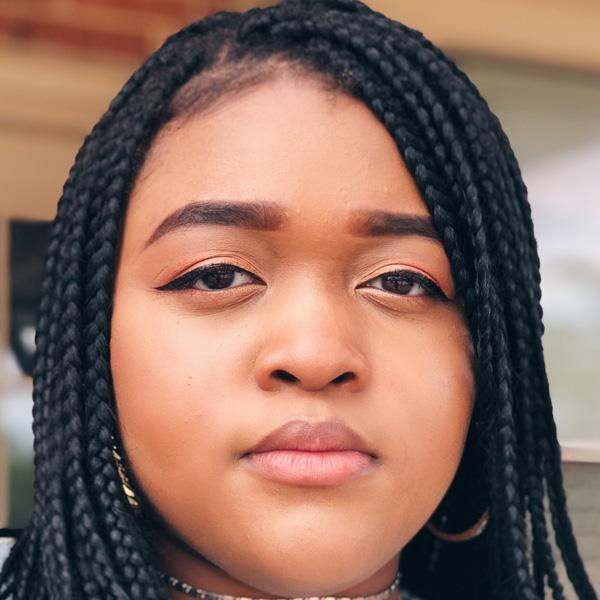Eyes: (159, 238, 272, 311), (345, 247, 451, 319)
